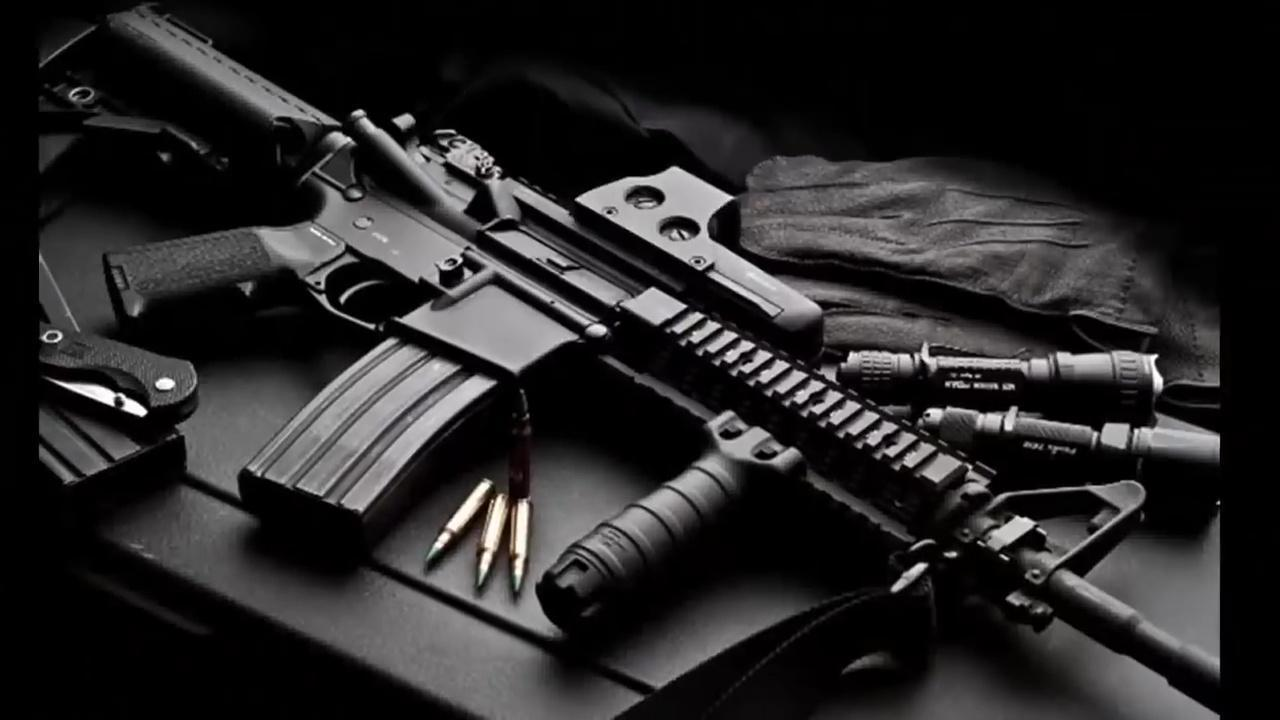Gun: (56, 9, 1239, 720)
Knife: (15, 320, 199, 436)
